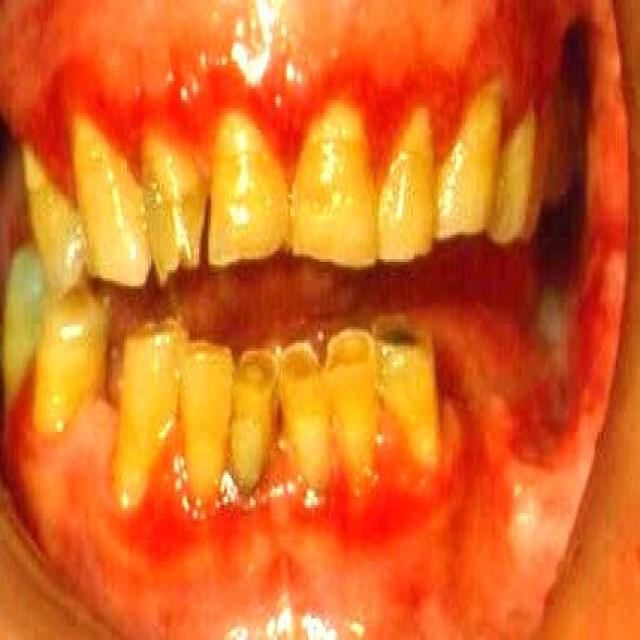caries: (152, 210, 205, 292), (376, 306, 431, 371), (324, 323, 378, 385), (280, 330, 322, 395), (235, 340, 277, 396)
